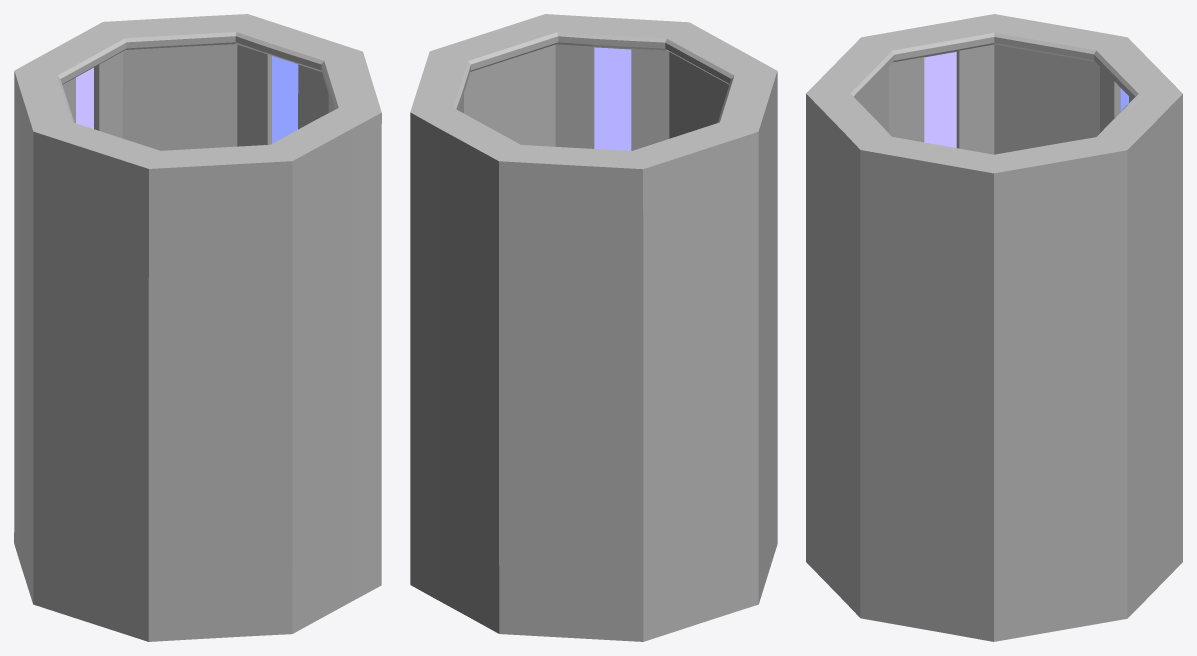
The model's file is tunnel.fbx.
3 views of the same model, side by side, from view 1: azimuth 30°, elevation 25°; view 2: azimuth 150°, elevation 25°; view 3: azimuth 270°, elevation 25° (orthographic).
Parts seen in each view (by area): view 1: Cube.003; view 2: Cube.003; view 3: Cube.003.
Part boxes in pixels (left/top/right/bottom): Cube.003: left=14, top=14, right=381, bottom=641; Cube.003: left=410, top=14, right=777, bottom=641; Cube.003: left=806, top=14, right=1182, bottom=641.
Size of the model in its own units: 7675 by 10529 by 7669.
